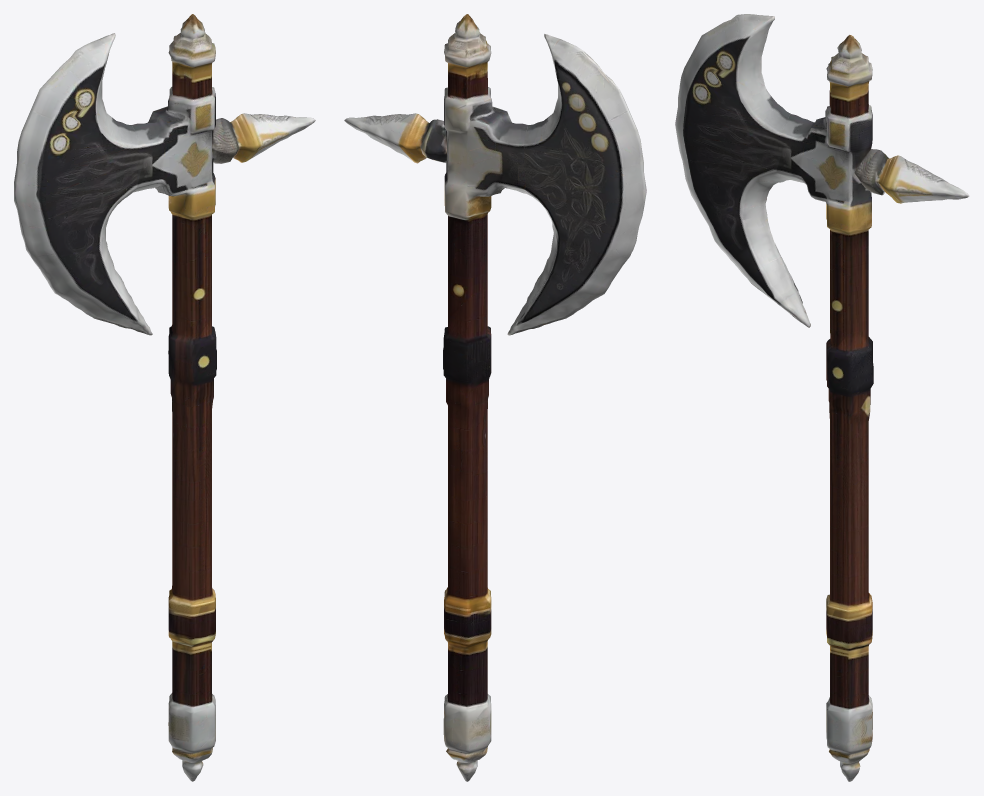
Rendered from Tabarzin.glb.
The picture shows the model from 3 angles, left to right: view 1: azimuth 30°, elevation 25°; view 2: azimuth 150°, elevation 25°; view 3: azimuth 330°, elevation 25°; orthographic projection. The views are drawn at different scales.
Size of the model in its own units: 0.7828 by 1.91 by 0.1135.
Materials: 1 (1 with a texture image).
